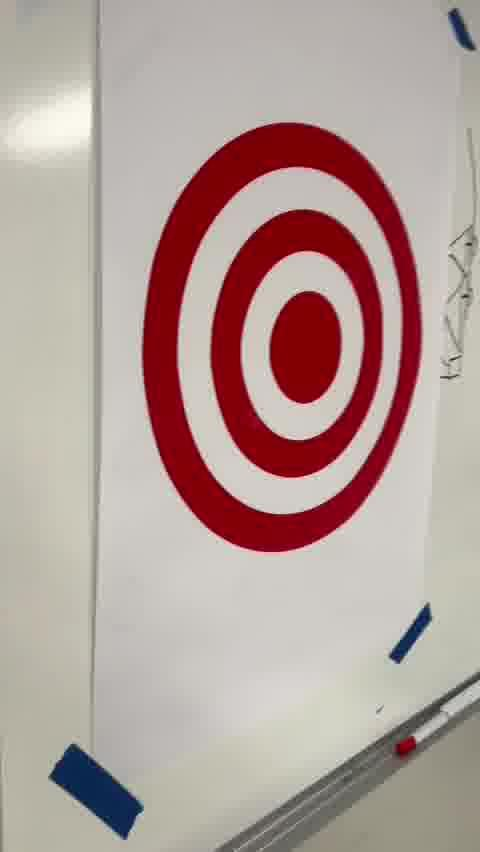target_red: (139, 122, 422, 552)
